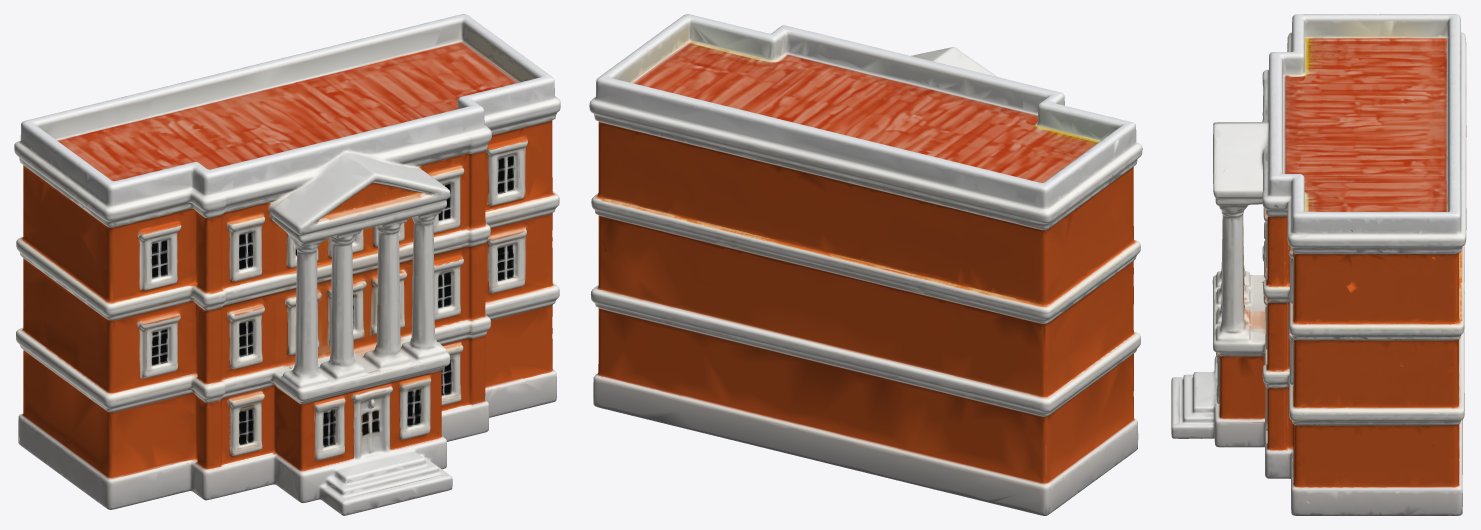
File: politeknik.optimized.glb
3 views of the same model, side by side, from view 1: azimuth 30°, elevation 25°; view 2: azimuth 150°, elevation 25°; view 3: azimuth 270°, elevation 25° (orthographic). The views are drawn at different scales.
Parts seen in each view (by area): view 1: geometry_0; view 2: geometry_0; view 3: geometry_0.
Part boxes in pixels (<box>): geometry_0: <box>14,14,560,515</box>; geometry_0: <box>589,14,1142,515</box>; geometry_0: <box>1171,14,1466,515</box>.
Size of the model in its own units: 1 by 0.6777 by 0.6027.
1 material, 1 textured.
